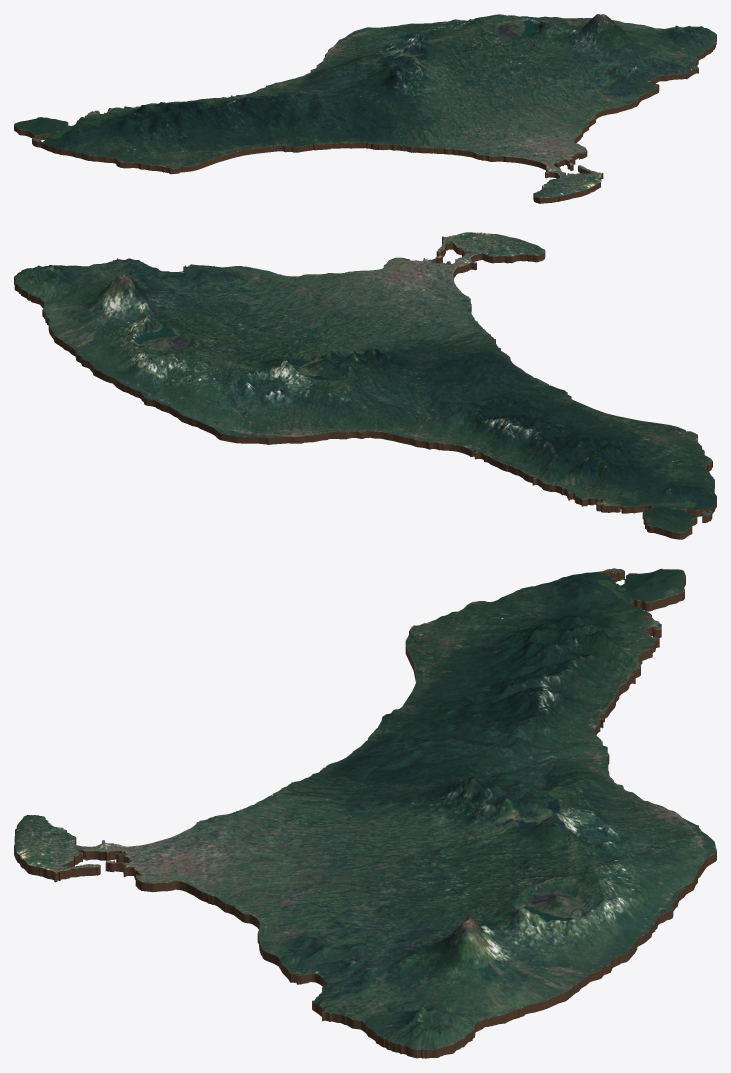
The model's file is sekala-bali-merged-low.glb.
The picture shows the model from 3 angles, top to bottom: view 1: azimuth 30°, elevation 25°; view 2: azimuth 150°, elevation 25°; view 3: azimuth 270°, elevation 25°; orthographic projection. The views are drawn at different scales.
Parts seen in each view (by area): view 1: Bali_Terrain, Bali_Base; view 2: Bali_Terrain, Bali_Base; view 3: Bali_Terrain, Bali_Base.
Part boxes in pixels (x1,y1,x2,y2): Bali_Terrain: (14,14,716,198); Bali_Base: (14,36,716,203); Bali_Terrain: (14,232,716,532); Bali_Base: (14,237,716,539); Bali_Terrain: (14,568,716,1049); Bali_Base: (14,571,716,1058).
Bounding box in the file's own units: 14.12 × 0.8518 × 8.71.
3 materials, 1 textured.
